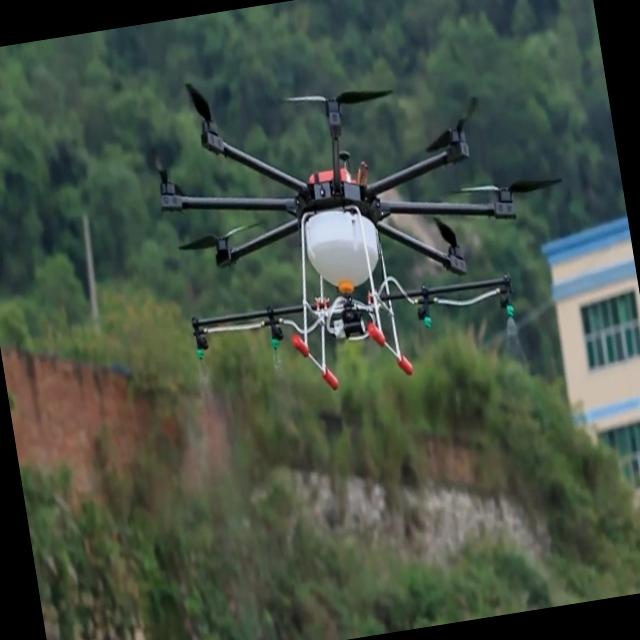drone: (139, 34, 542, 416)
